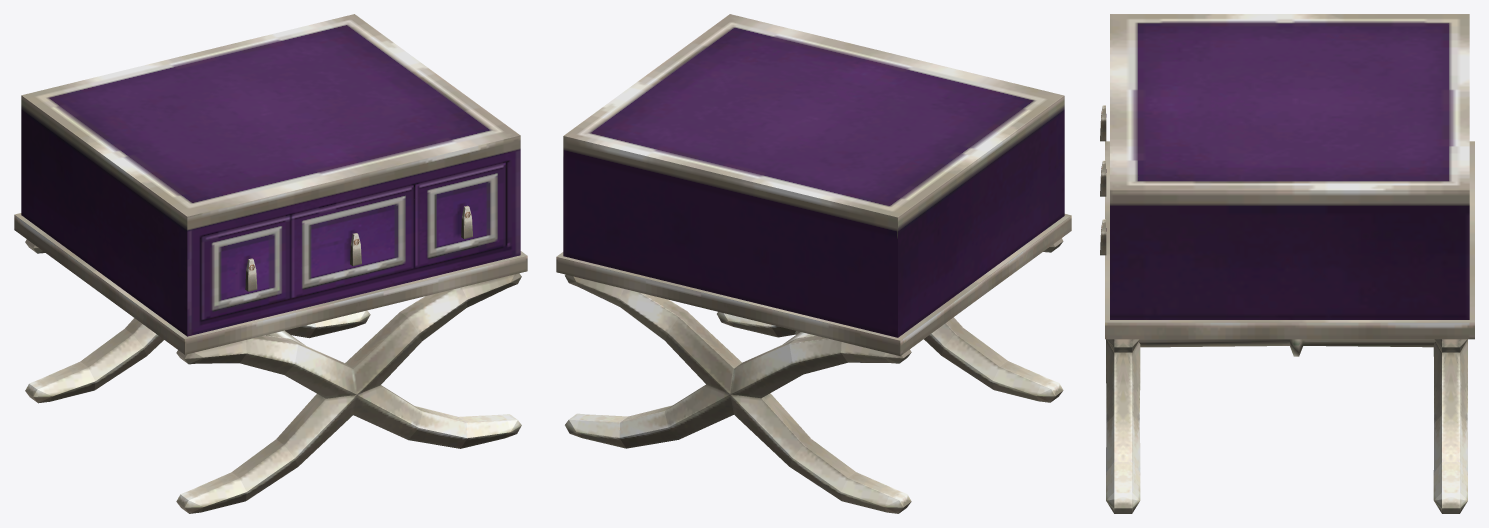
The model's file is furni_0201110_01.FBX.
3 renders of one model, left to right at view 1: azimuth 30°, elevation 25°; view 2: azimuth 150°, elevation 25°; view 3: azimuth 270°, elevation 25°, orthographic. The views are drawn at different scales.
Parts seen in each view (by area): view 1: furni_0201110_01; view 2: furni_0201110_01; view 3: furni_0201110_01.
Boxes of the visible parts, x1,y1,x2,y2 form: furni_0201110_01: (14, 14, 527, 513); furni_0201110_01: (556, 14, 1071, 513); furni_0201110_01: (1100, 14, 1474, 513).
Bounding box in the file's own units: 59.63 × 50.04 × 52.1.
Materials: 1 (1 with a texture image).
